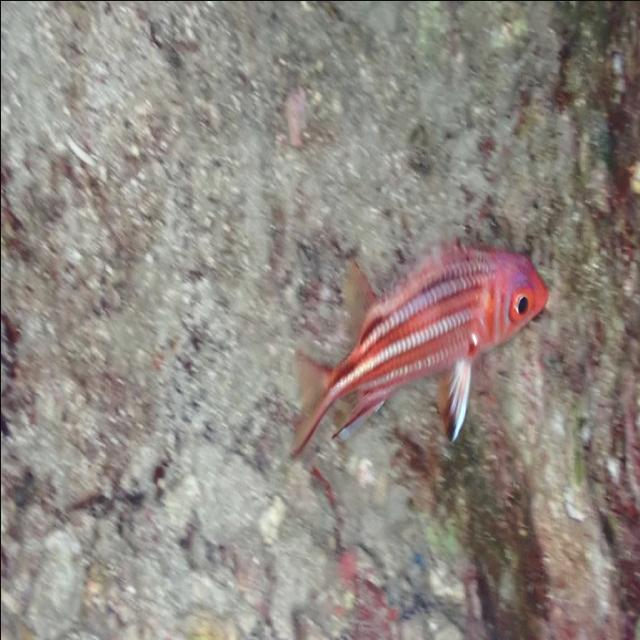Asker Baligi: (282, 225, 562, 483)
